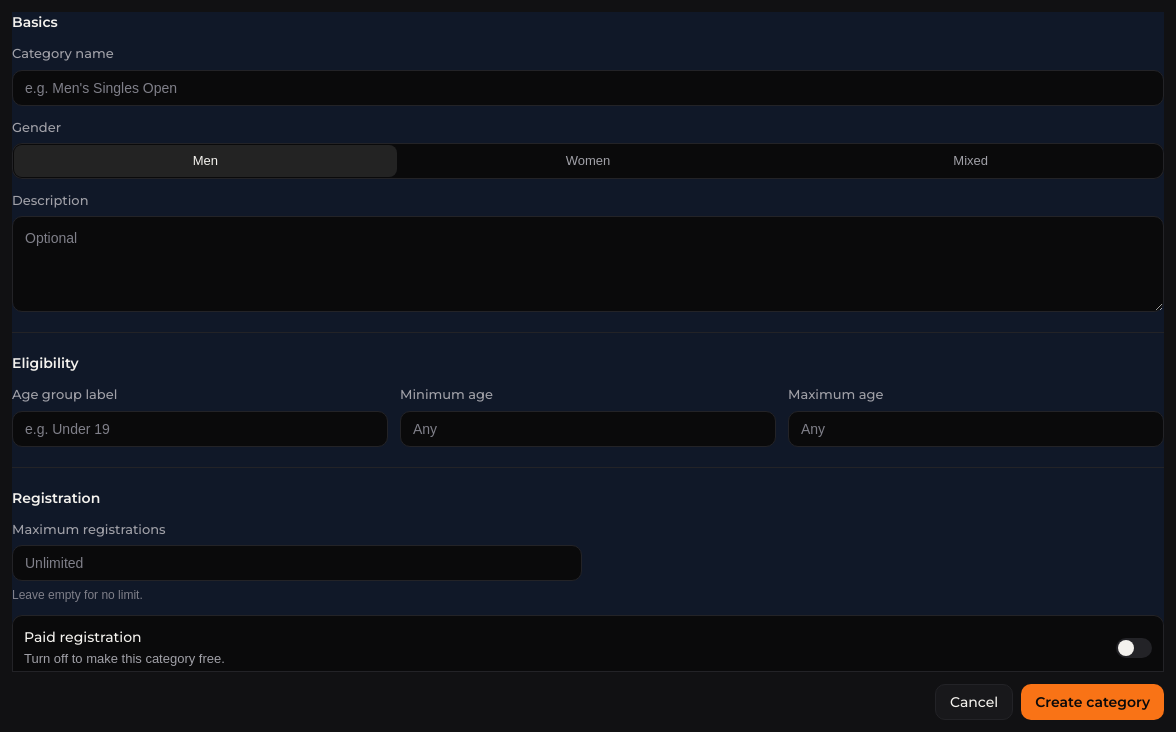
Scenario: BadmintonCategoryForm › validates ages and paid fees inline before saving
The width and height of the screenshot is (1176, 732).
Type "U-19 Singles" into the field labelled "Category name" at (588, 88), box [12,70,1164,106]
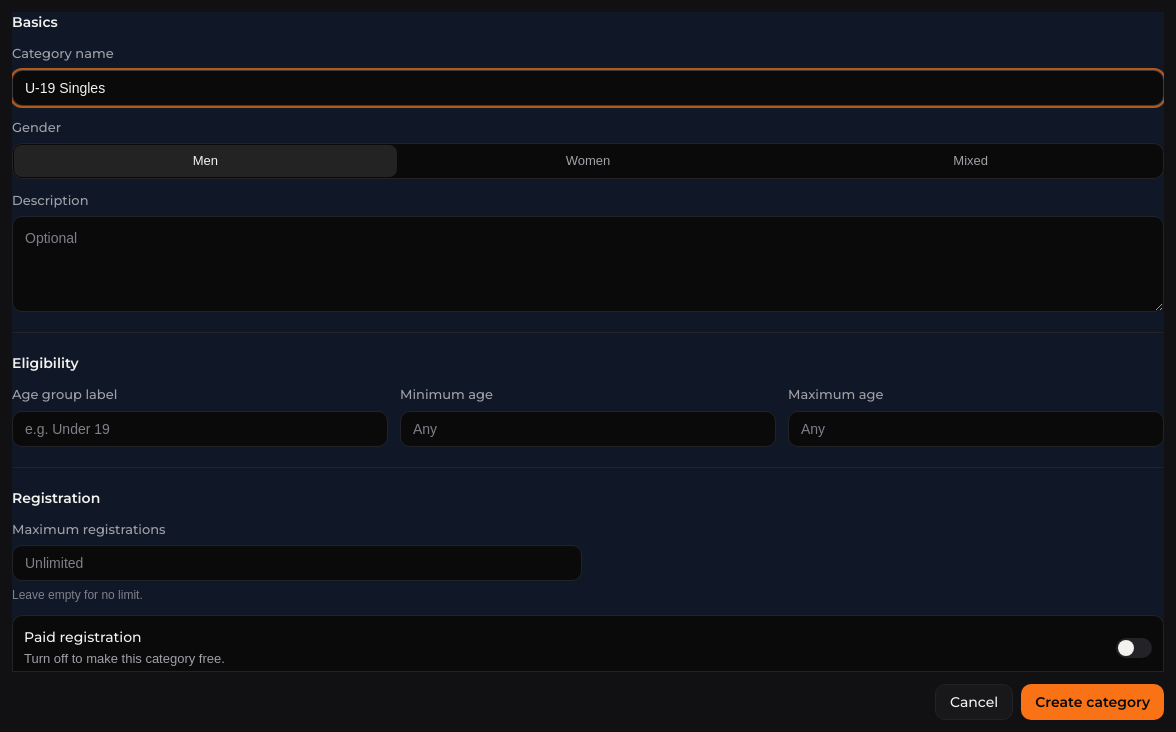
Type "Under 19" into the field labelled "Age group label" at (200, 428), box [12,410,388,446]
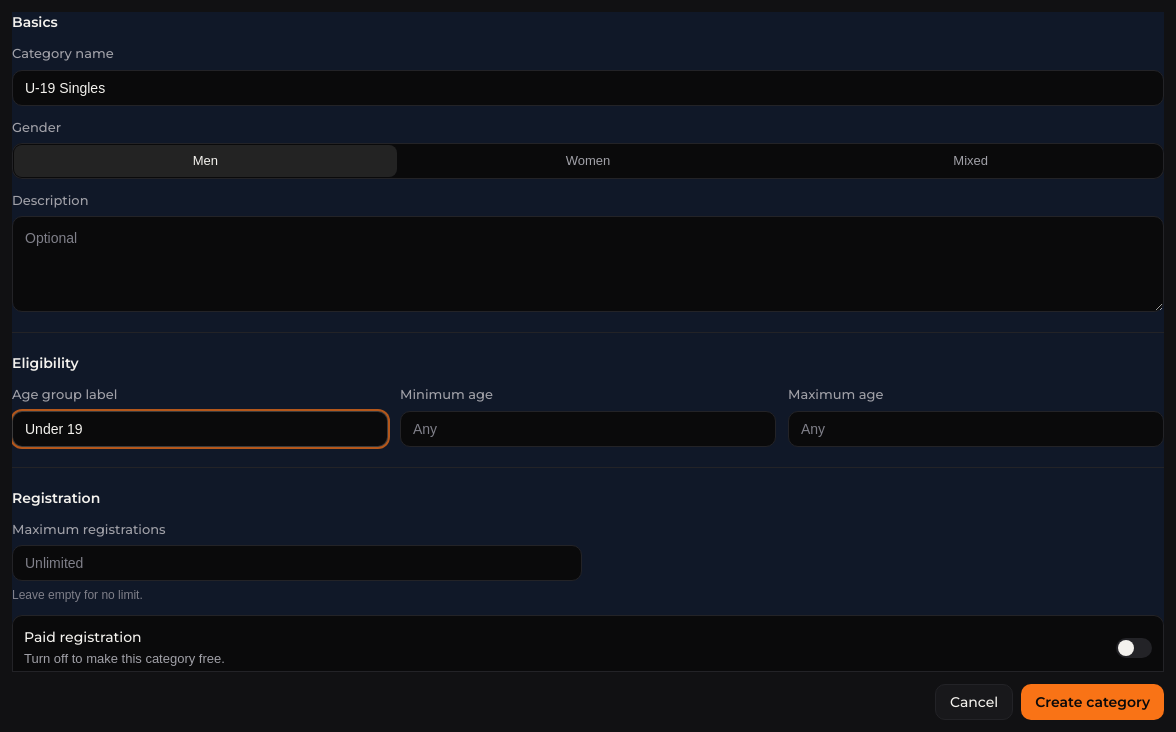
Type "19" into the number field labelled "Minimum age" at (588, 428), box [400,410,776,446]
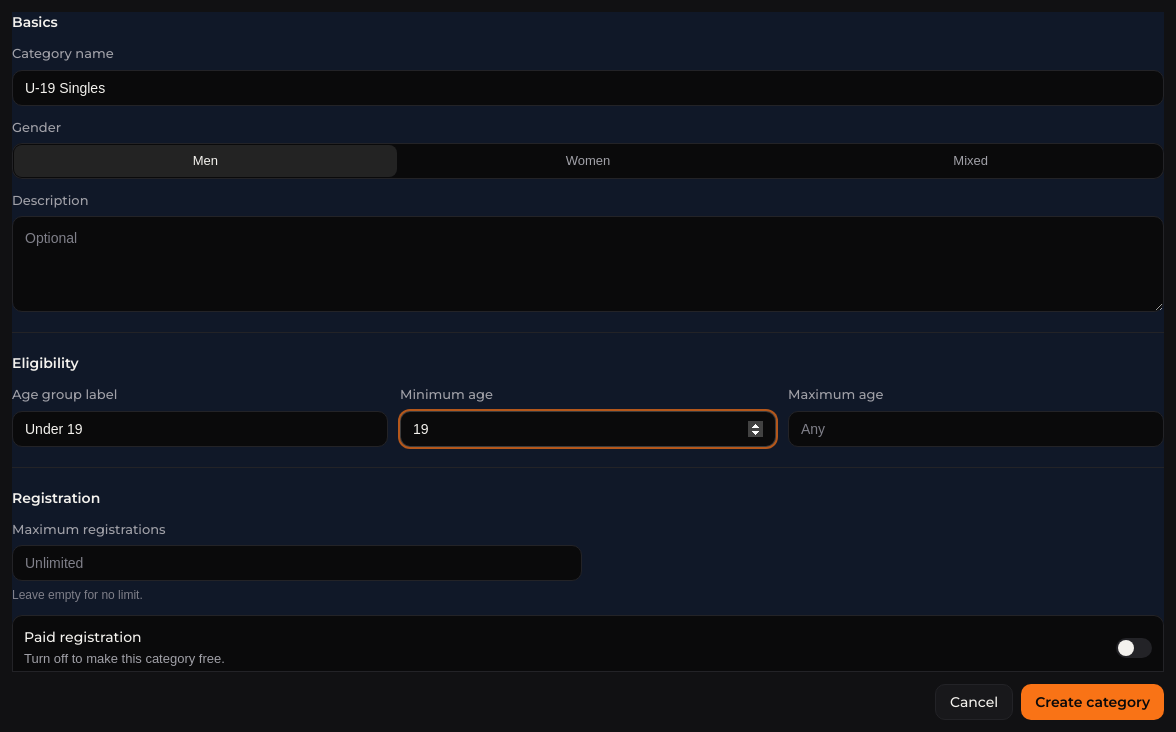
Type "15" into the number field labelled "Maximum age" at (976, 428), box [788,410,1164,446]
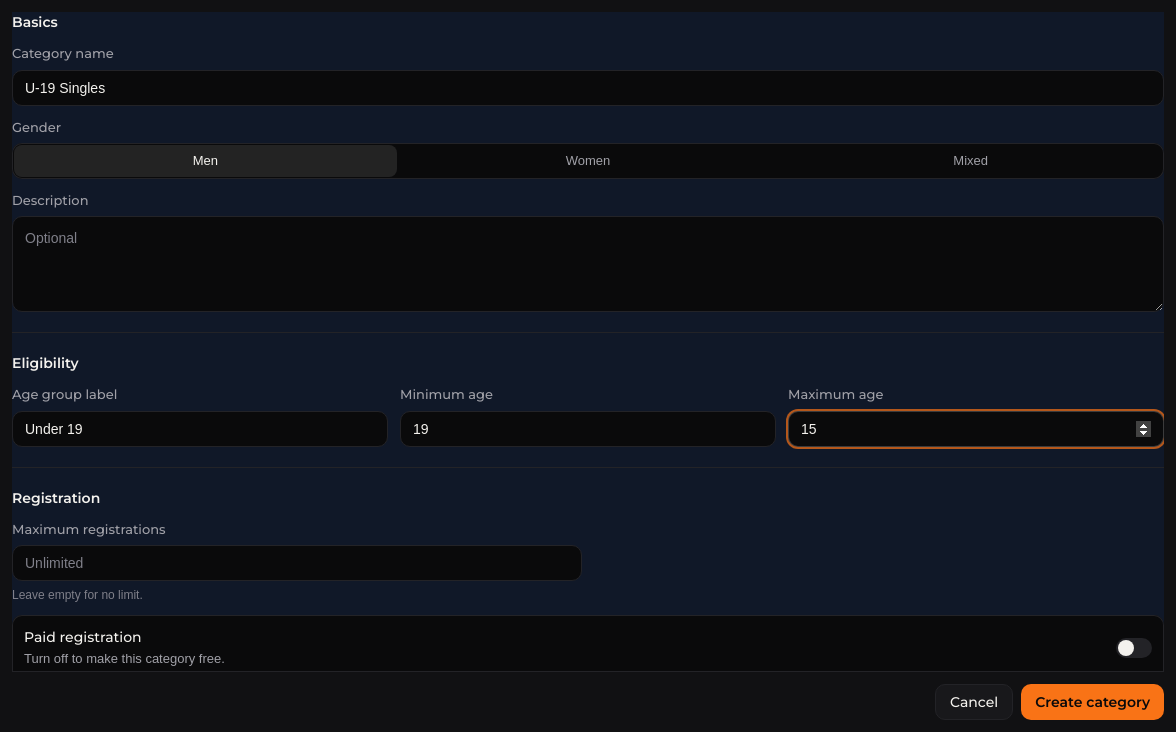
Click the switch labelled "Paid registration Turn off to make this category free." at (83, 637), box [12,615,1164,680]
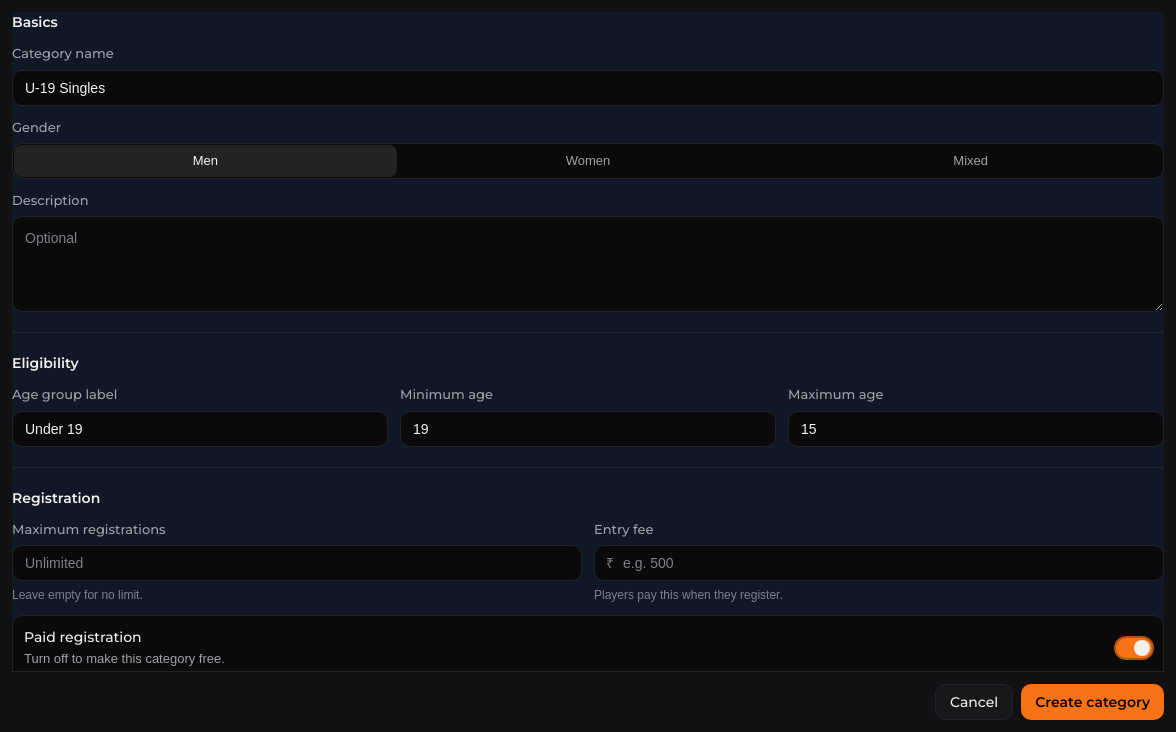
Click the button "Create category" at (1093, 702), box [1021,684,1164,720]
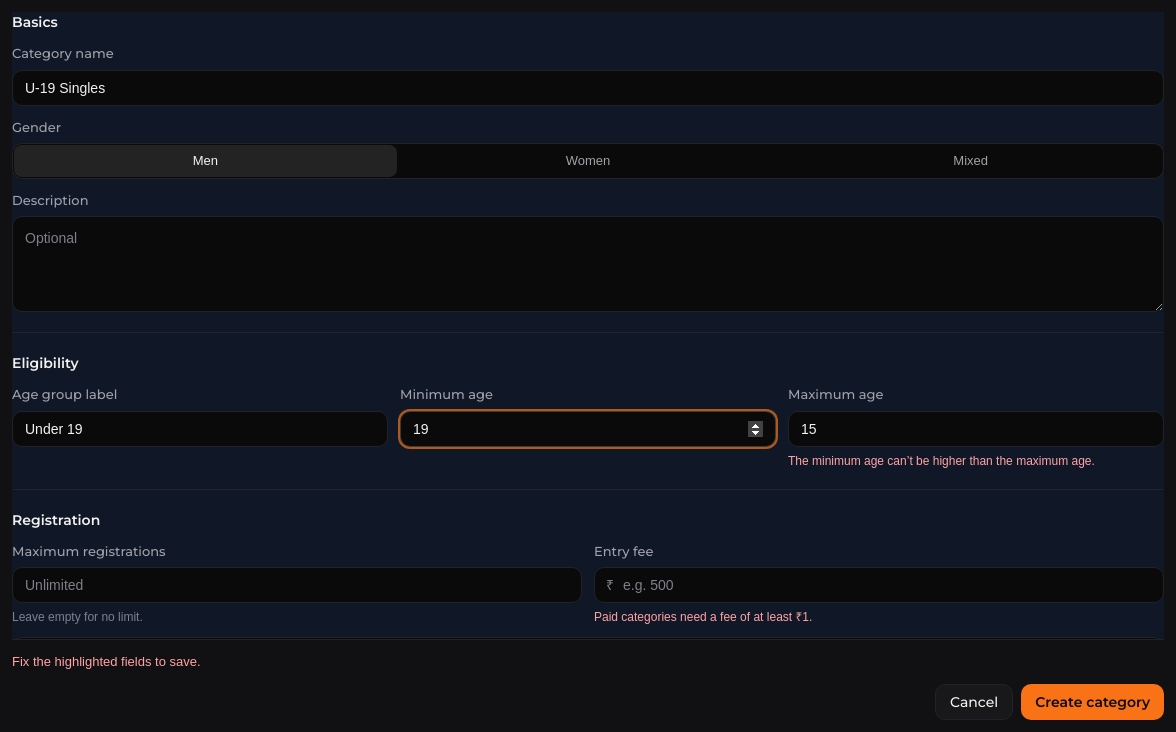
Result: the text "The minimum age can’t be higher than the maximum age." is shown at [788,454,1095,468]
Result: the text "Paid categories need a fee of at least ₹1." is shown at [594,610,812,624]
